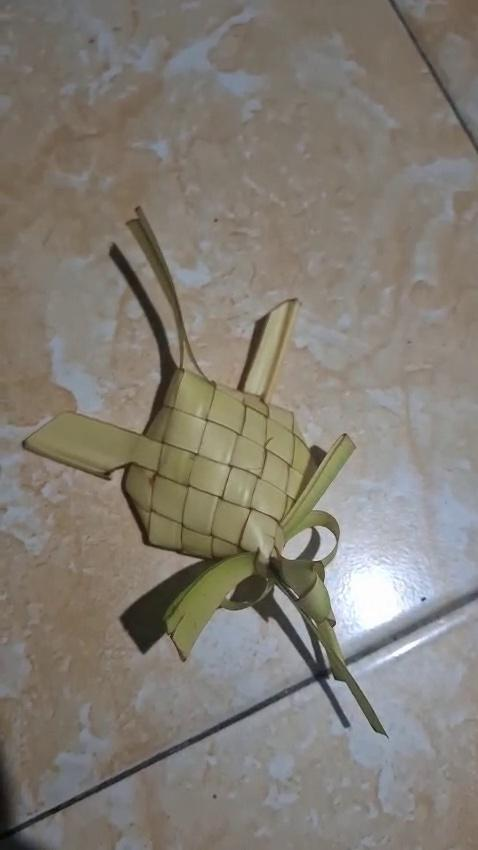Tipat Dampulan: (22, 222, 360, 681)
